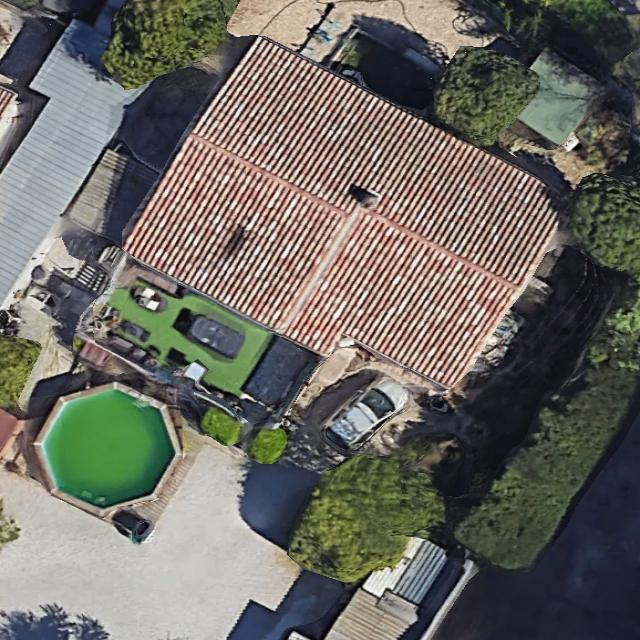maison: (115, 21, 573, 425)
